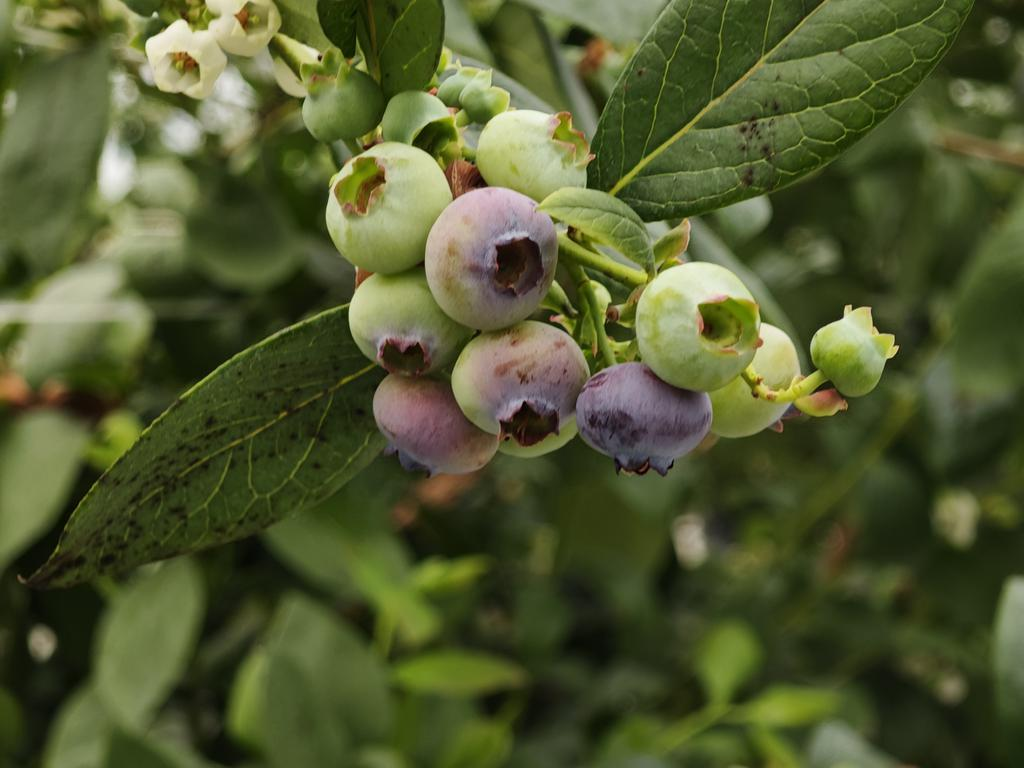RipeBlueBerry: (576, 362, 712, 470)
Semi-RipeBlueBerry: (426, 185, 560, 331), (450, 326, 582, 442), (372, 376, 499, 476)
UnripeBlueBerry: (634, 259, 763, 391), (325, 140, 452, 273), (349, 276, 461, 372), (477, 109, 590, 200)
